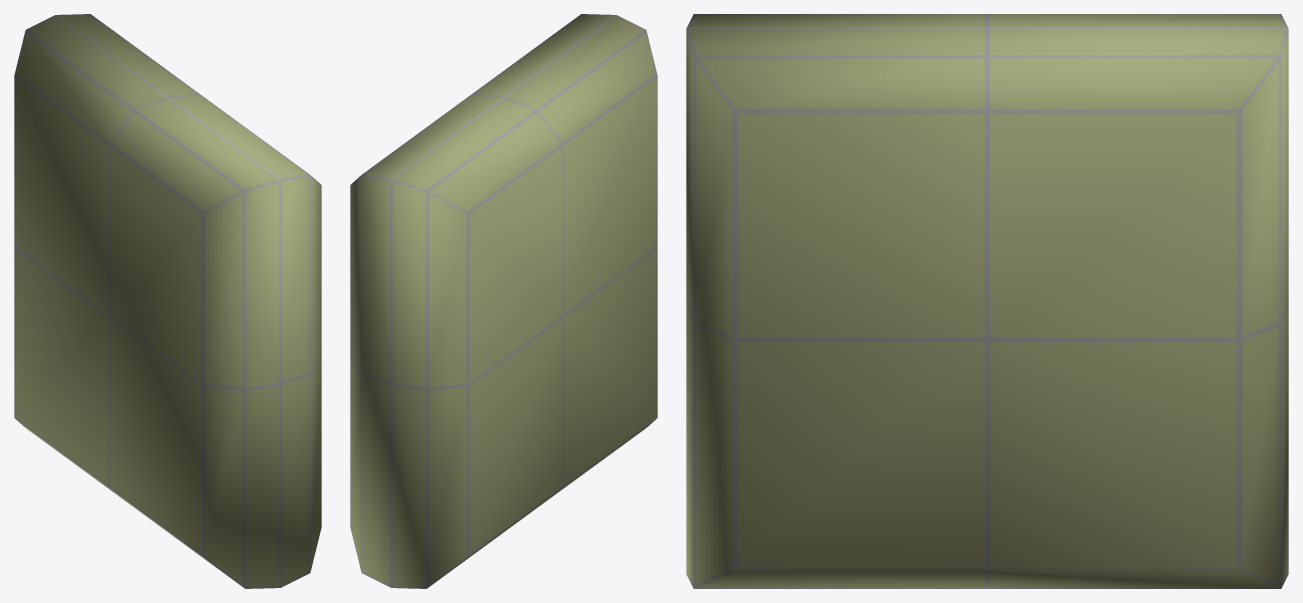
Rendered from health_bonus.obj.
The picture shows the model from 3 angles, left to right: view 1: azimuth 30°, elevation 25°; view 2: azimuth 150°, elevation 25°; view 3: azimuth 270°, elevation 25°; orthographic projection. The views are drawn at different scales.
Parts seen in each view (by area): view 1: cube1; view 2: cube1; view 3: cube1.
Part boxes in pixels (x1,y1,x2,y2): cube1: (14,14,321,588); cube1: (350,14,657,588); cube1: (686,14,1288,588).
Size of the model in its own units: 0.312 by 1.02 by 1.02.
Materials: 1 (1 with a texture image).
